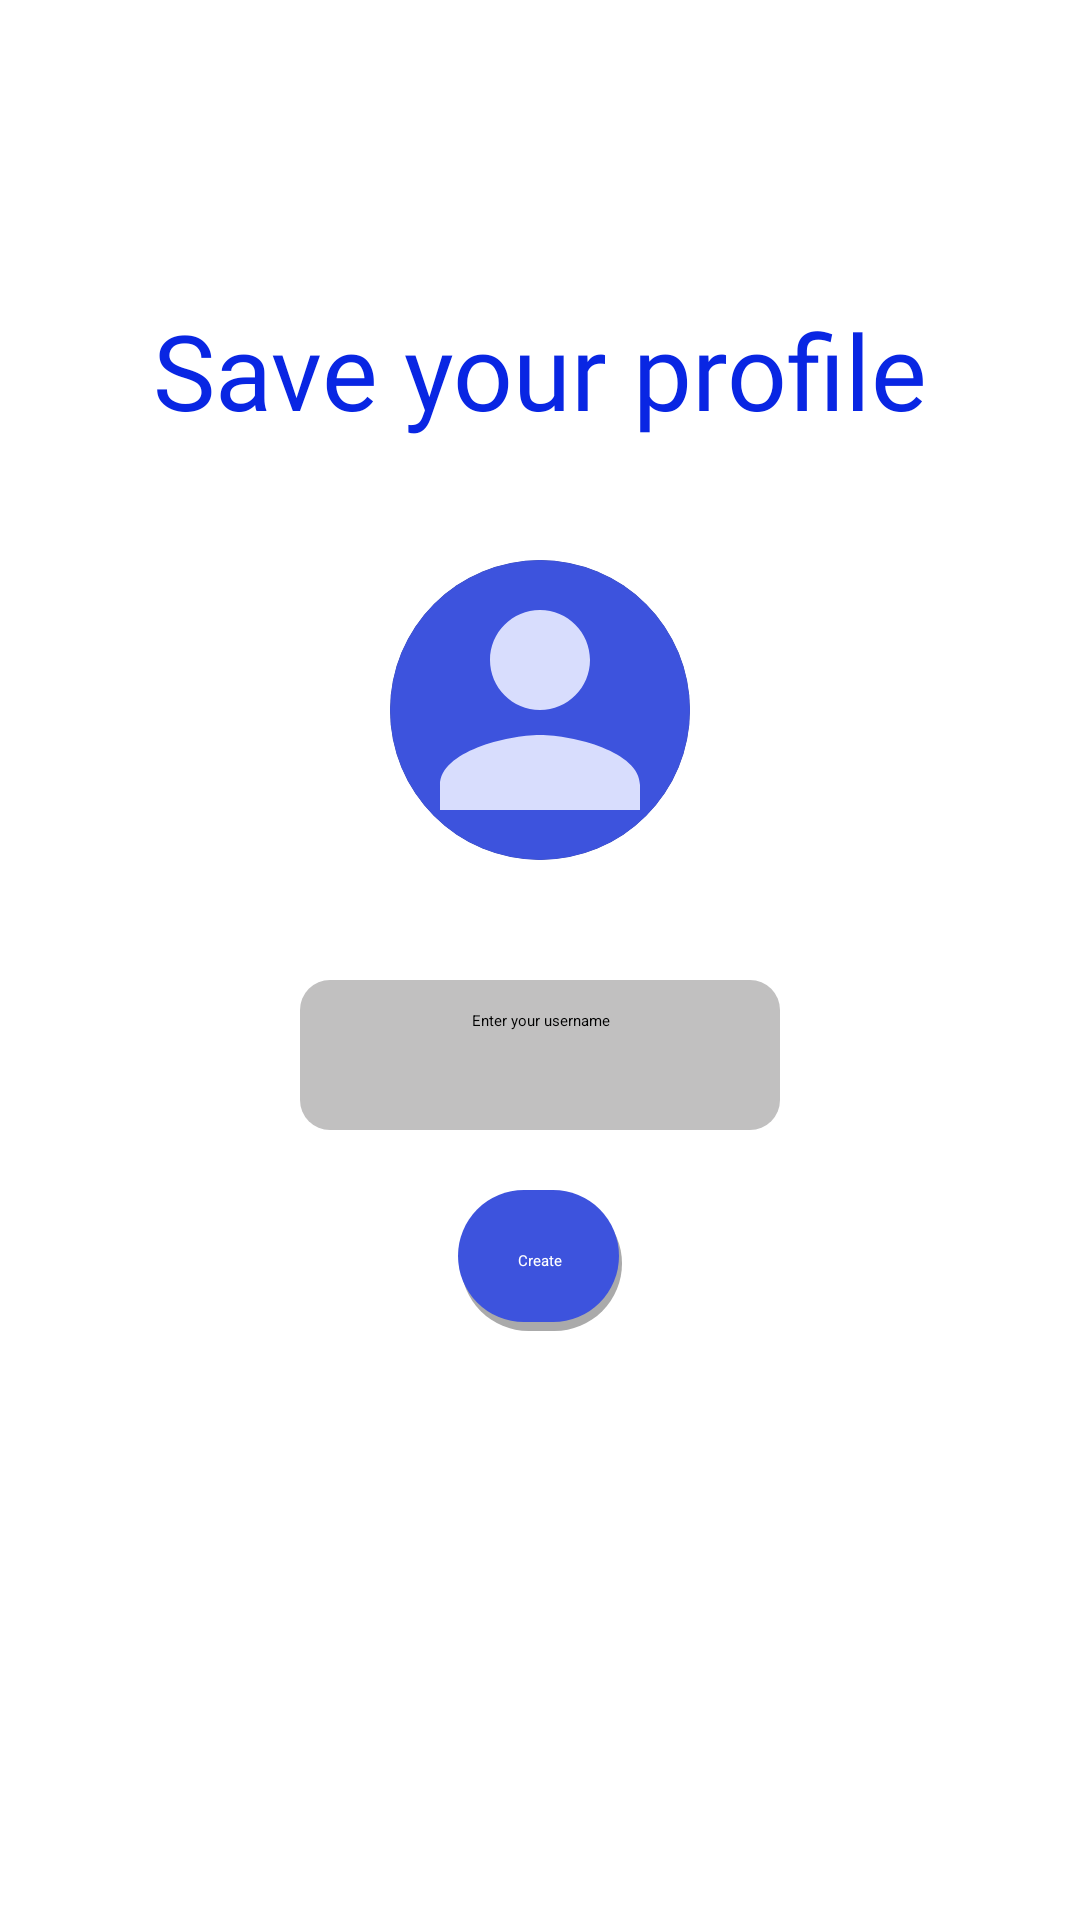

Icon click points for this 1080px x 1920px phone screenshot, format [x,y]:
person: [540,710]
